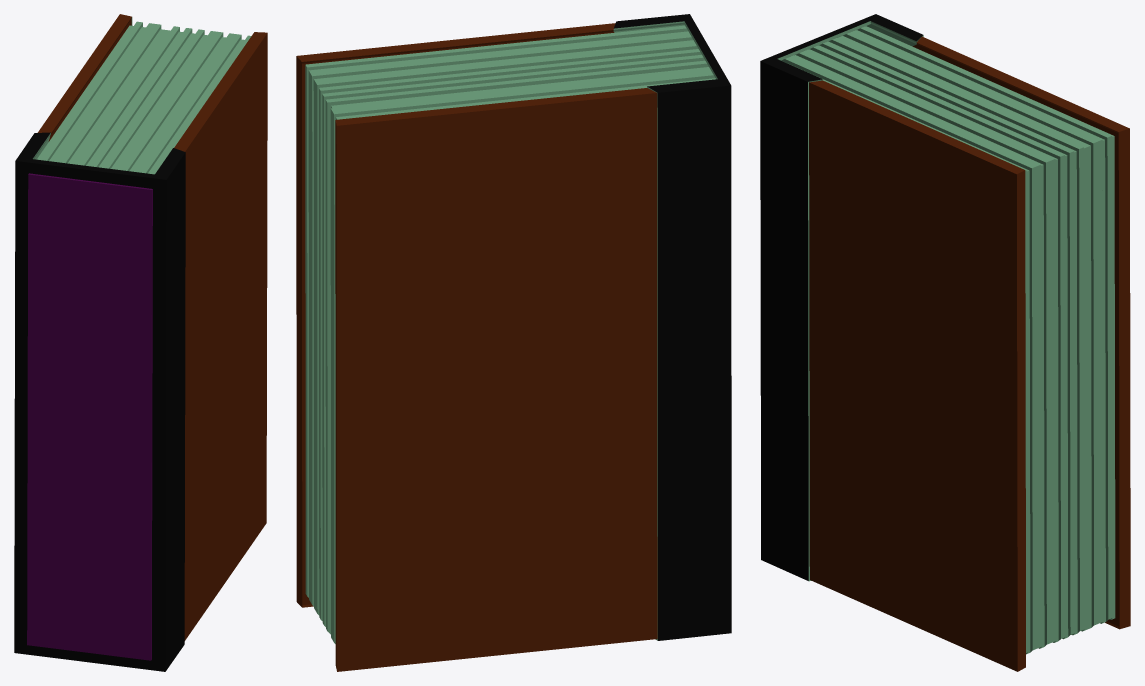
The model's file is SecondShelfBook6.fbx.
3 renders of one model, left to right at view 1: azimuth 30°, elevation 25°; view 2: azimuth 150°, elevation 25°; view 3: azimuth 270°, elevation 25°, orthographic. The views are drawn at different scales.
Parts seen in each view (by area): view 1: BigBook.005; view 2: BigBook.005; view 3: BigBook.005.
Boxes of the visible parts, <box> form: BigBook.005: <box>14,14,267,671</box>; BigBook.005: <box>296,14,731,671</box>; BigBook.005: <box>760,14,1130,671</box>.
Size of the model in its own units: 130 by 189 by 127.
